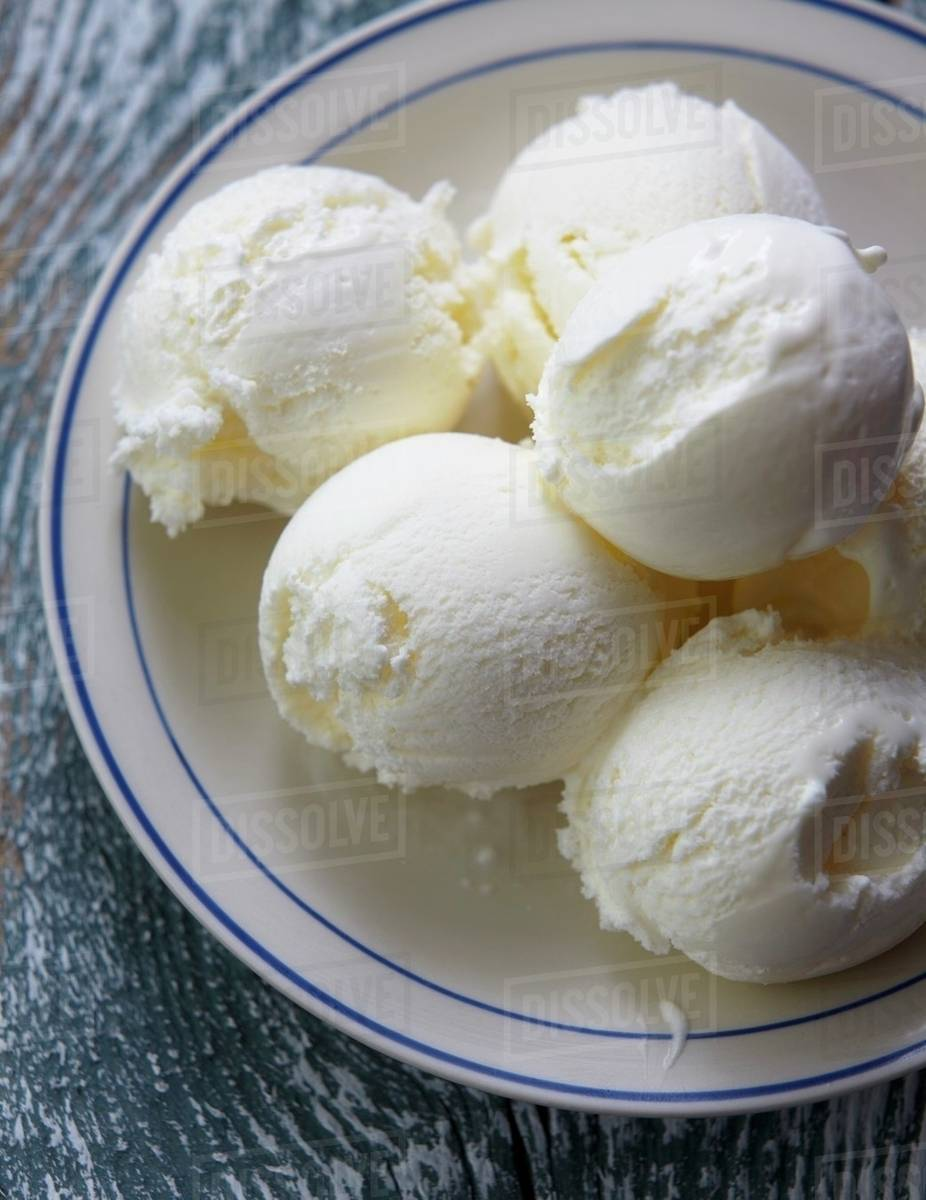ice-cream: (259, 432, 661, 800), (539, 214, 908, 580), (113, 167, 494, 517), (575, 626, 926, 981), (479, 86, 828, 427)
